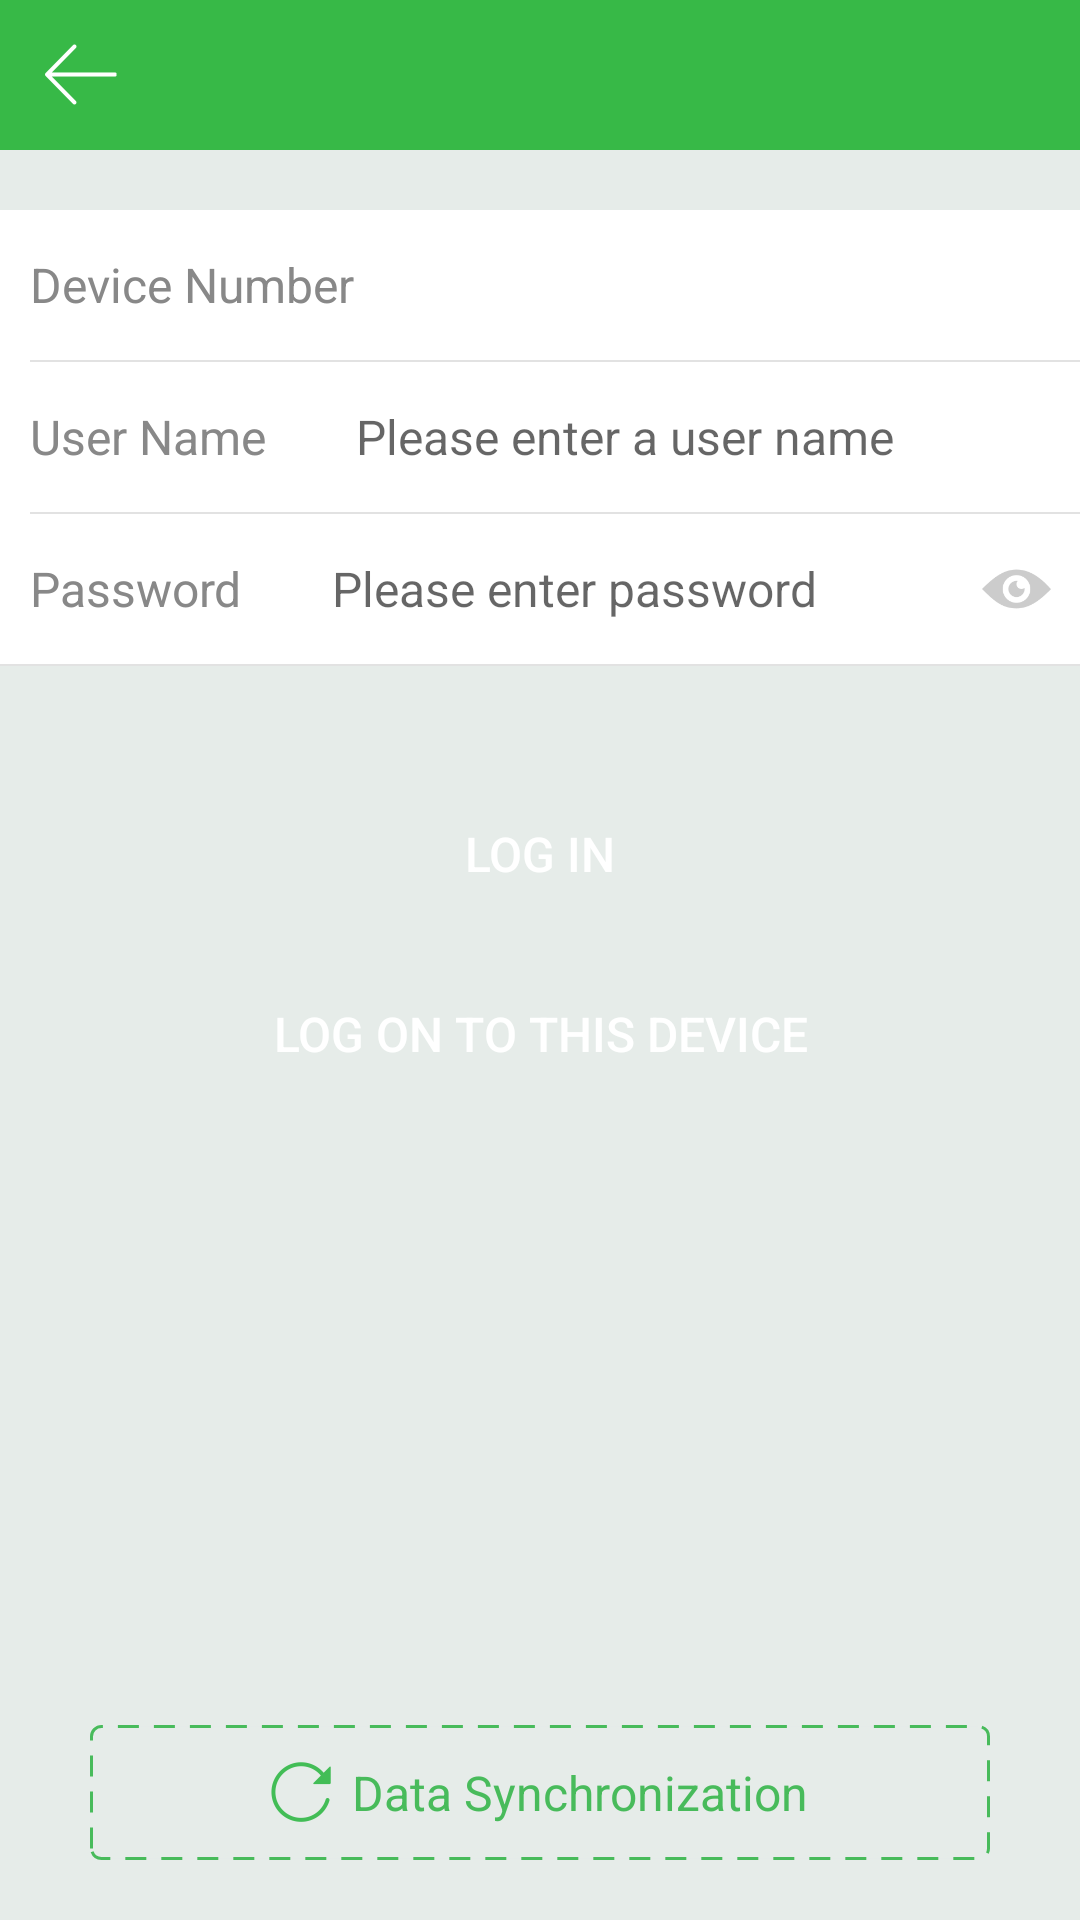

Screen size 1080×1920. Icon name, then its center in pixels as [x,y]:
sycndata: [301,1792]
